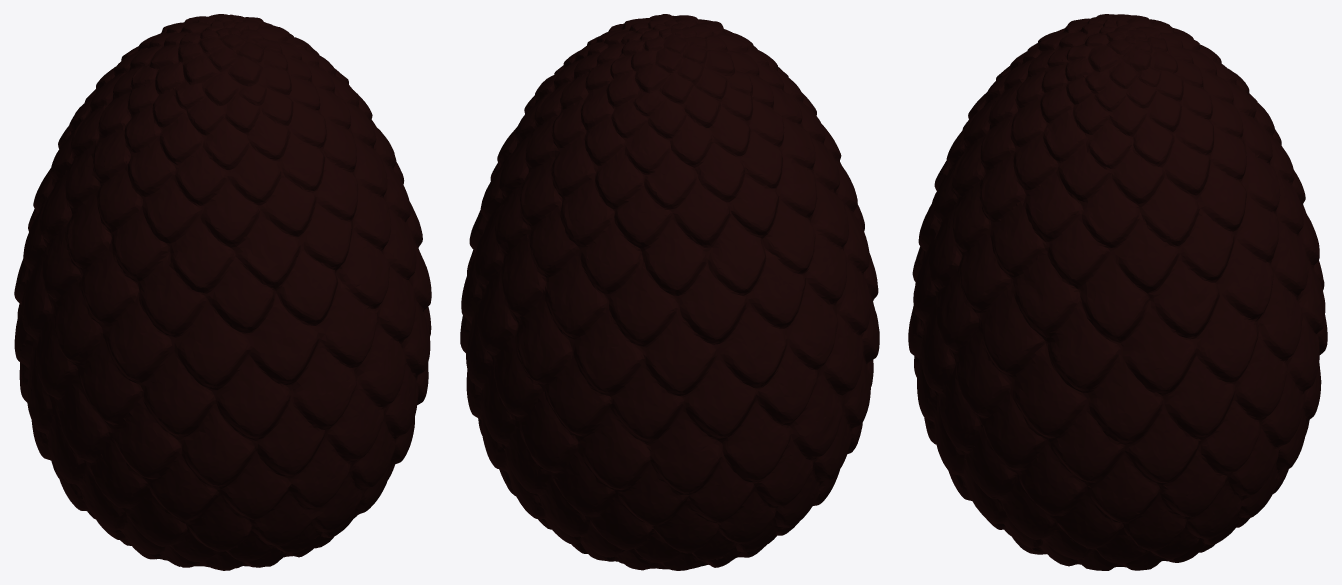
The model's file is Egg_Dark.fbx.
3 views of the same model, side by side, from view 1: azimuth 30°, elevation 25°; view 2: azimuth 150°, elevation 25°; view 3: azimuth 270°, elevation 25° (orthographic).
Visible parts, largest first — view 1: DragonEggSolid; view 2: DragonEggSolid; view 3: DragonEggSolid.
Boxes of the visible parts, left/top/right/bottom form: DragonEggSolid: left=14, top=14, right=431, bottom=570; DragonEggSolid: left=460, top=14, right=879, bottom=570; DragonEggSolid: left=908, top=14, right=1327, bottom=570.
Size of the model in its own units: 185 by 244 by 185.
